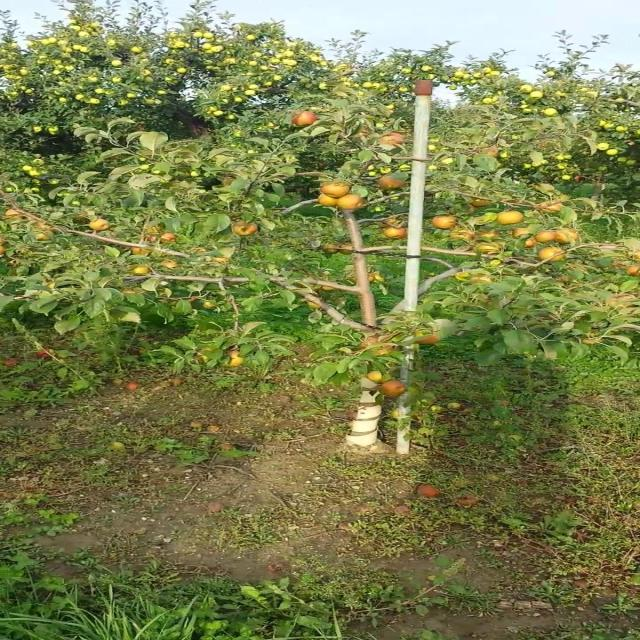apple: (554, 228, 583, 244), (291, 112, 318, 127), (540, 248, 567, 262), (383, 380, 405, 396), (497, 212, 526, 224), (340, 196, 363, 211), (227, 352, 247, 368), (433, 216, 457, 229), (326, 184, 350, 197), (234, 224, 258, 236), (383, 228, 407, 240), (383, 176, 405, 189), (476, 244, 501, 255), (419, 332, 441, 344), (454, 228, 476, 240), (582, 332, 604, 344), (92, 220, 112, 232), (383, 136, 405, 146), (540, 204, 564, 213), (511, 228, 532, 238), (319, 196, 336, 208), (369, 372, 386, 384), (340, 244, 356, 256), (540, 232, 555, 244), (476, 232, 498, 240), (476, 276, 496, 284), (376, 348, 395, 356), (212, 256, 231, 264), (35, 232, 53, 240), (326, 244, 340, 254), (134, 268, 151, 276), (134, 248, 151, 256), (163, 260, 180, 268), (35, 352, 52, 360), (362, 340, 379, 348), (454, 272, 471, 280), (383, 220, 402, 227), (148, 224, 164, 232), (163, 236, 178, 244), (476, 200, 491, 208), (198, 352, 208, 364), (6, 360, 21, 368), (362, 340, 379, 347), (525, 240, 539, 248), (625, 268, 638, 276), (127, 288, 137, 296), (6, 212, 21, 217), (561, 276, 571, 283), (632, 268, 639, 276), (191, 296, 199, 303), (148, 236, 156, 243), (207, 304, 217, 309)
